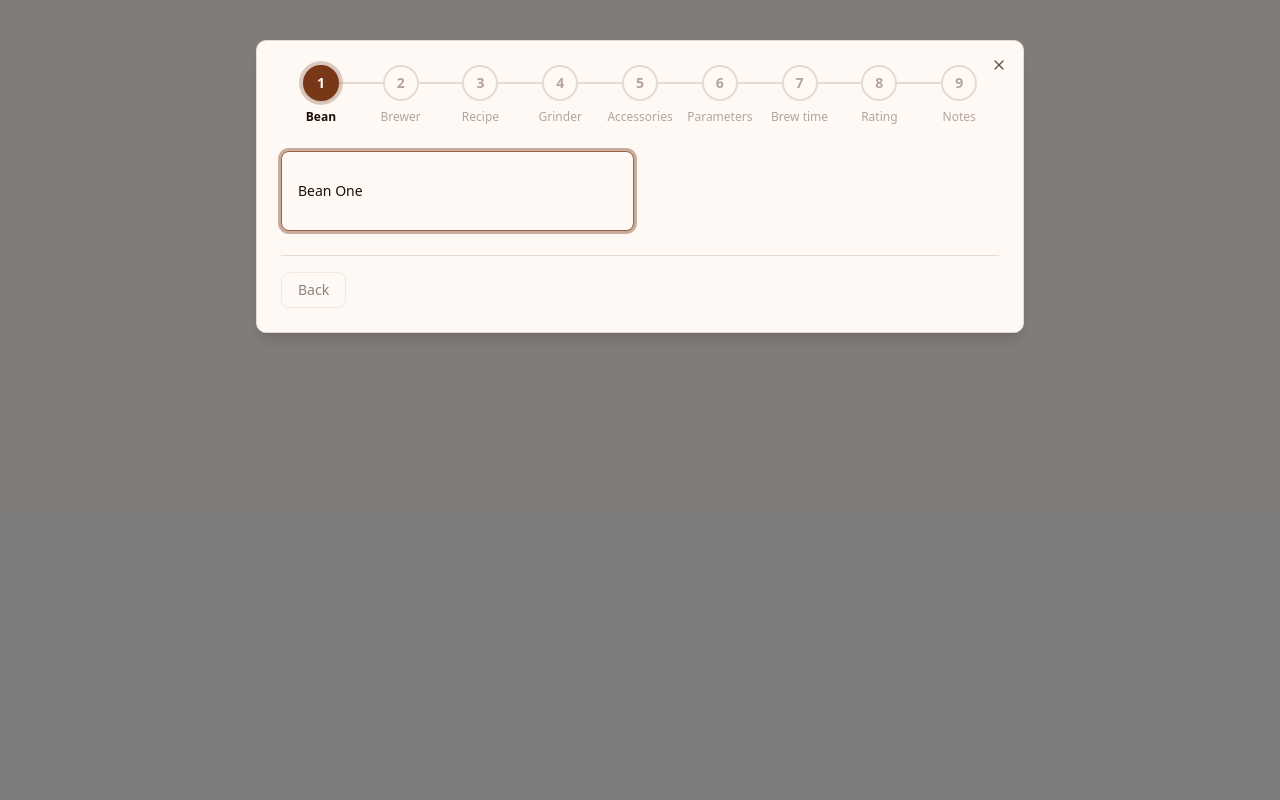
Test: QuickLogWizardDialog › keeps the user on the brew parameters step when required values are missing
The width and height of the screenshot is (1280, 800).
Step 1. Click the radio button labelled "Bean One" → (330, 190), box top-left (281, 151), bottom-right (634, 231)
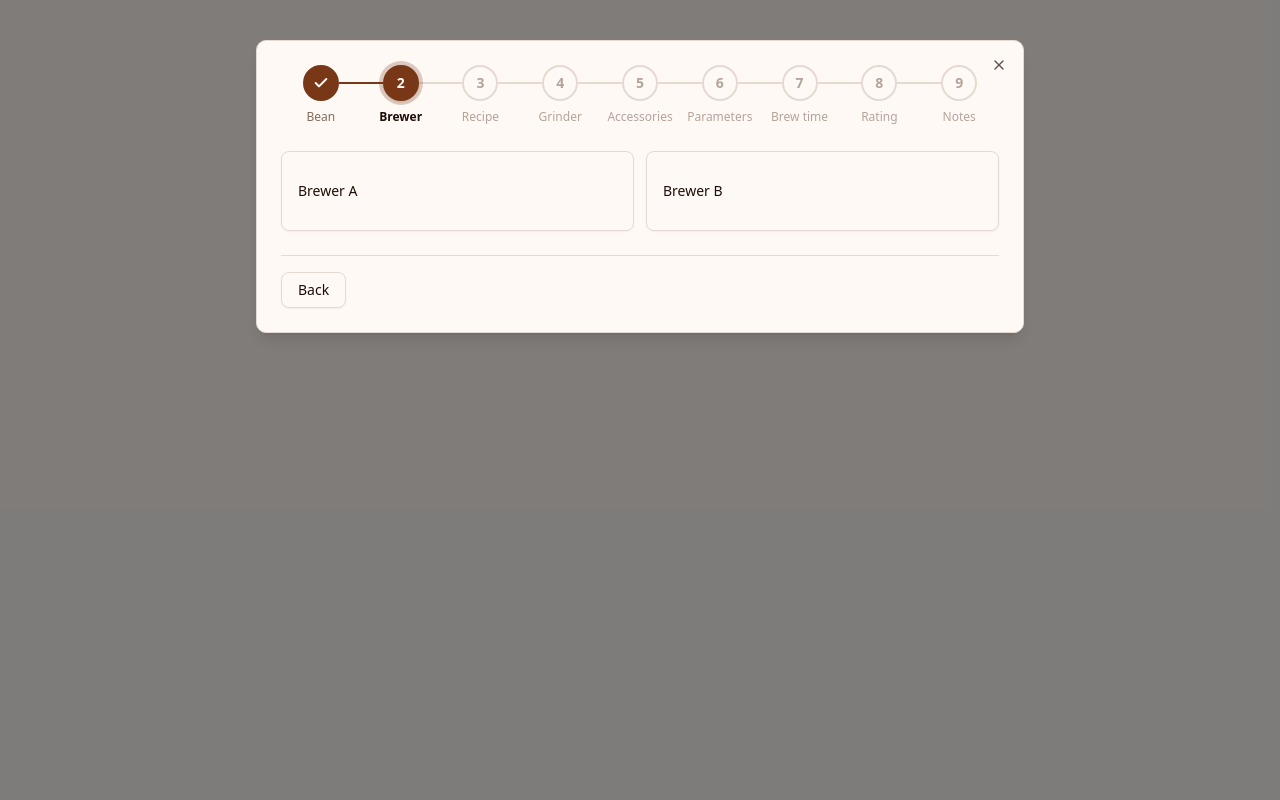
Step 2. Click the radio button labelled "Brewer A" → (328, 190), box top-left (281, 151), bottom-right (634, 231)
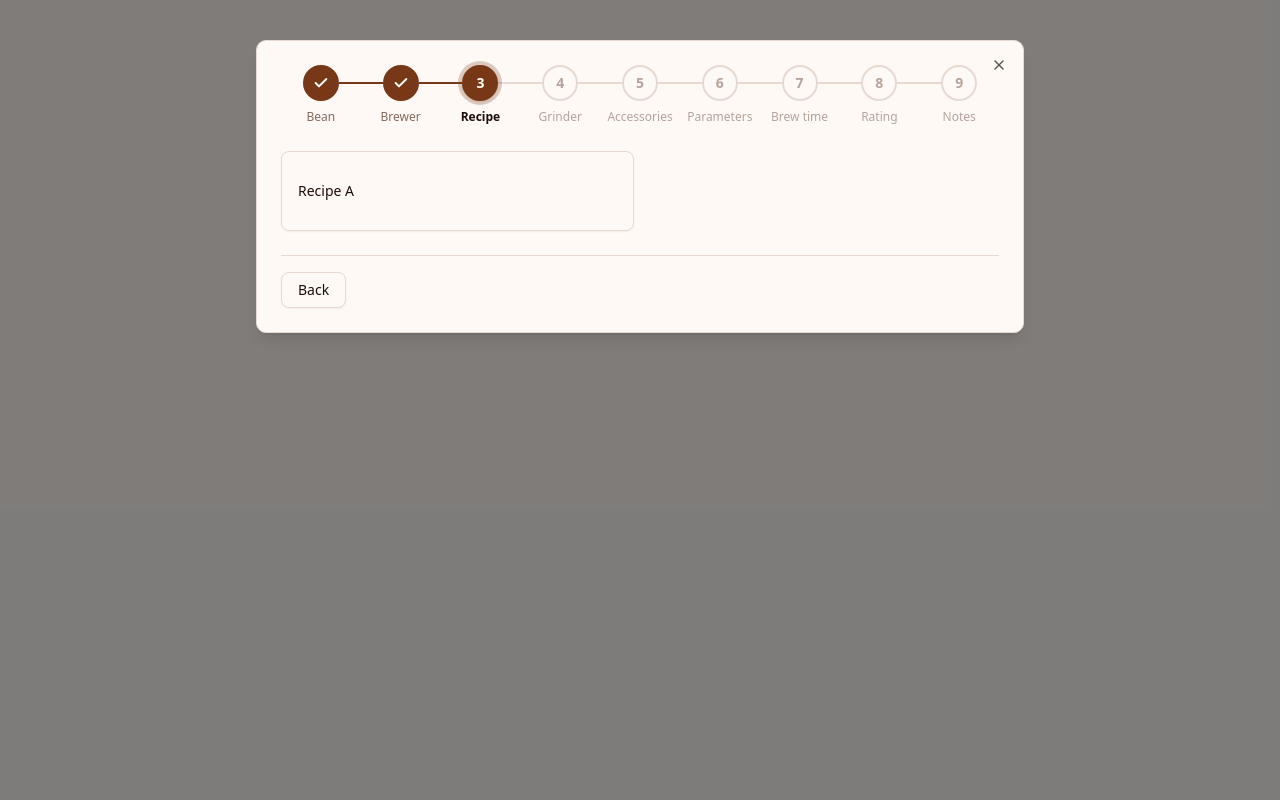
Step 3. Click the radio button labelled "Recipe A" → (326, 190), box top-left (281, 151), bottom-right (634, 231)
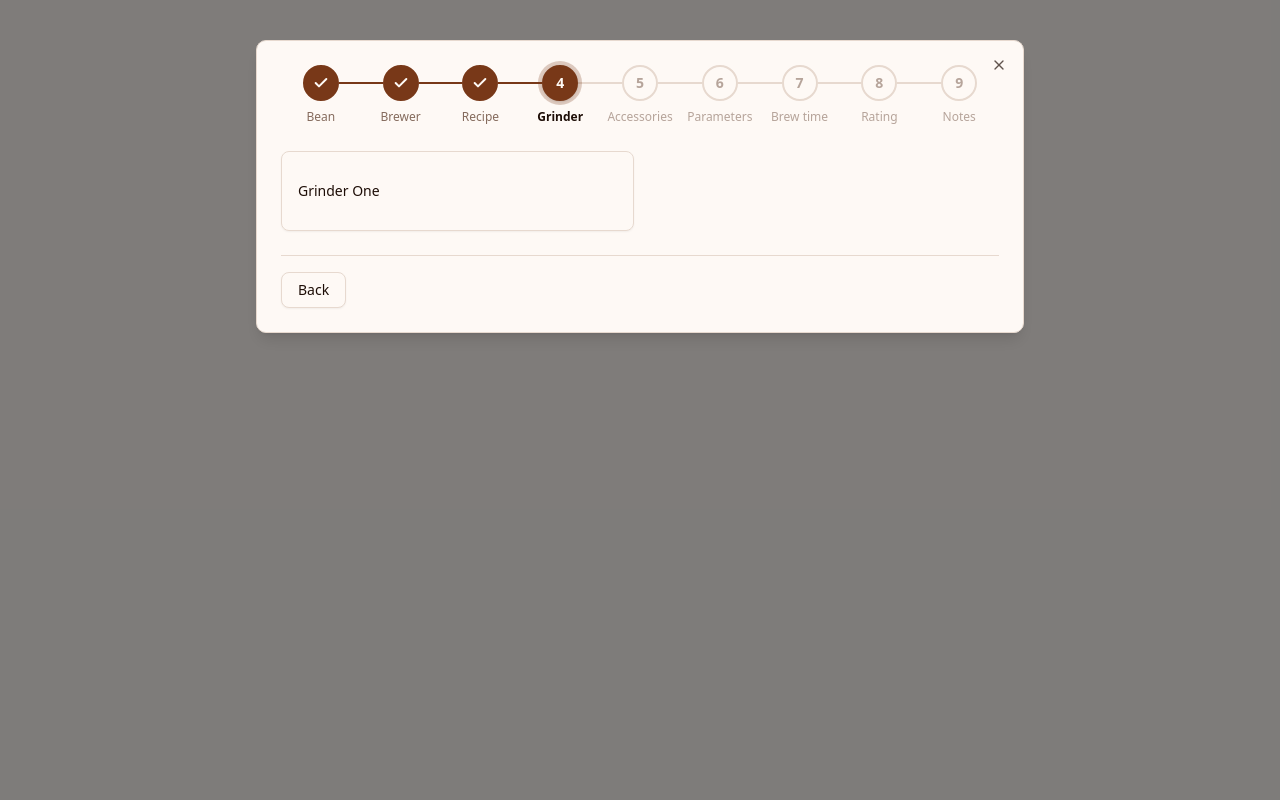
Step 4. Click the radio button labelled "Grinder One" → (339, 190), box top-left (281, 151), bottom-right (634, 231)
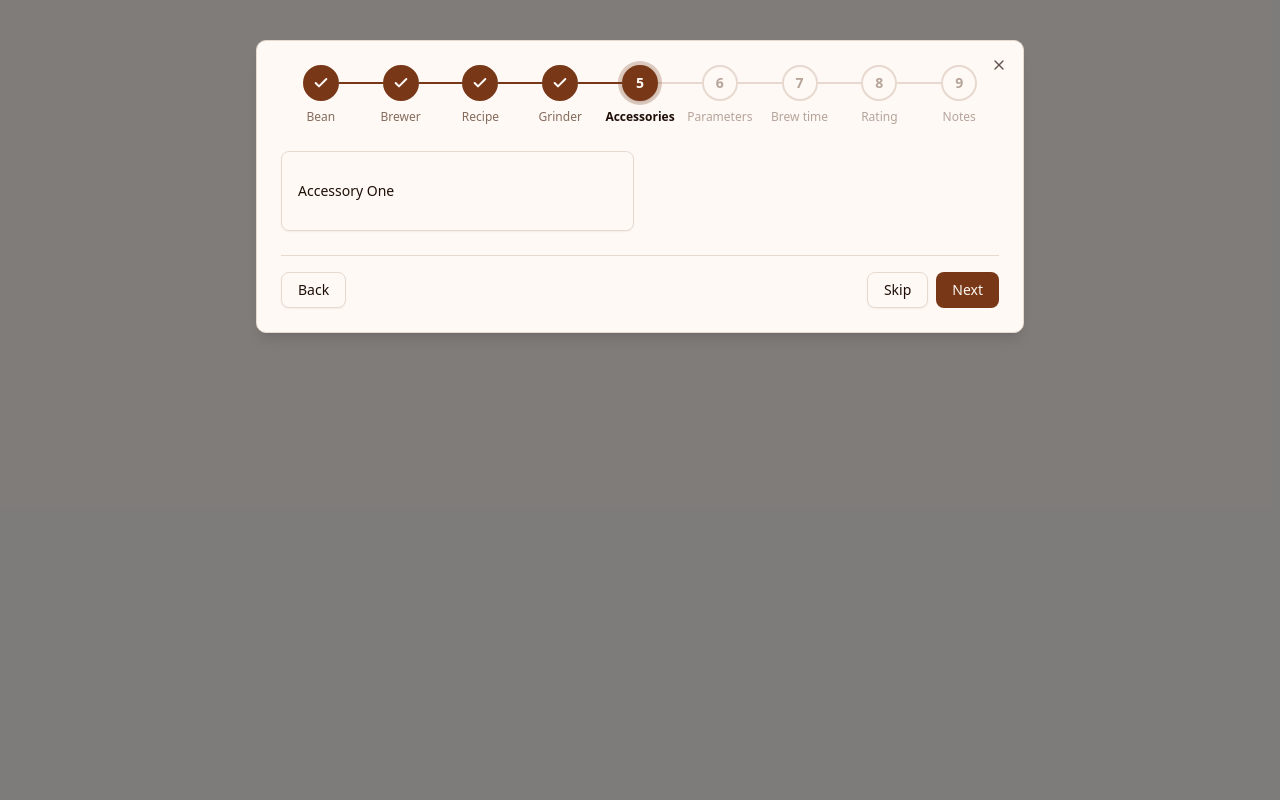
Step 5. Click the button "Skip" → (898, 290), box top-left (867, 272), bottom-right (928, 308)
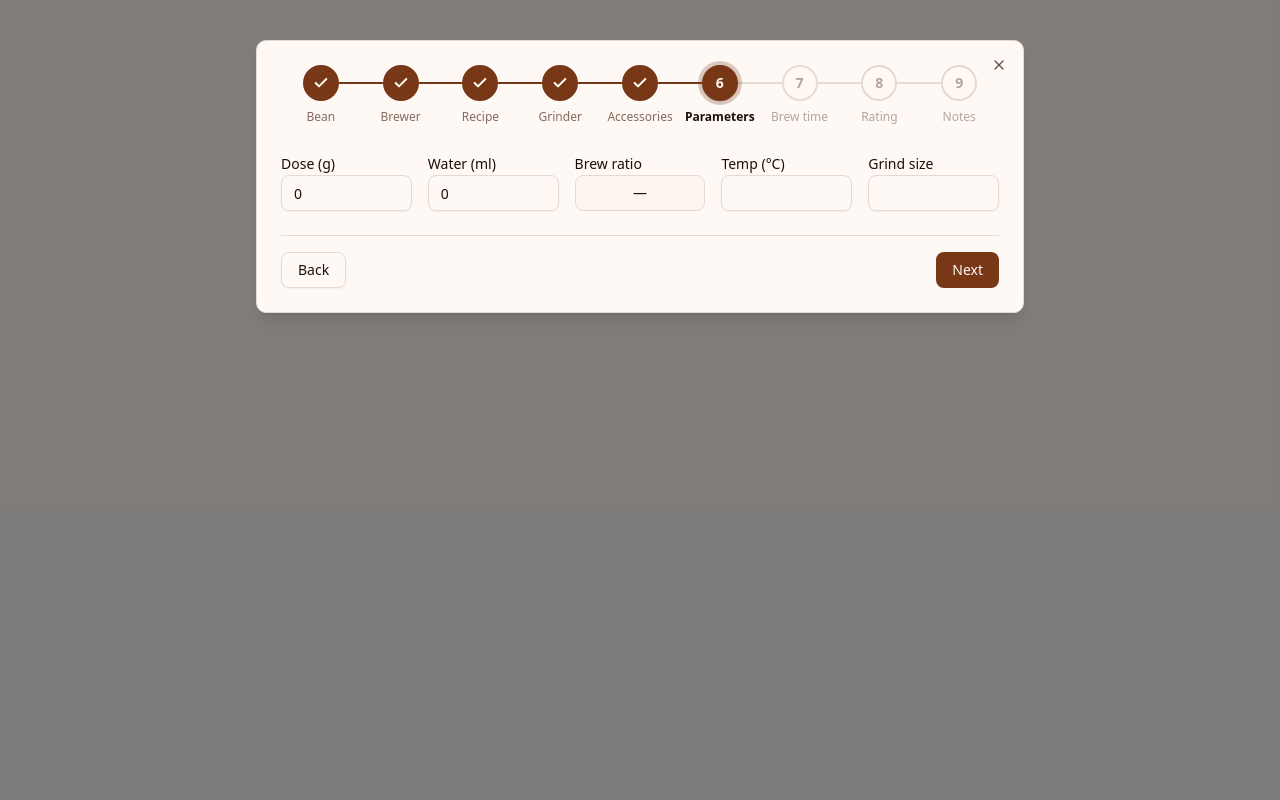
Step 6. Click the button "Next" → (968, 270), box top-left (936, 252), bottom-right (999, 288)
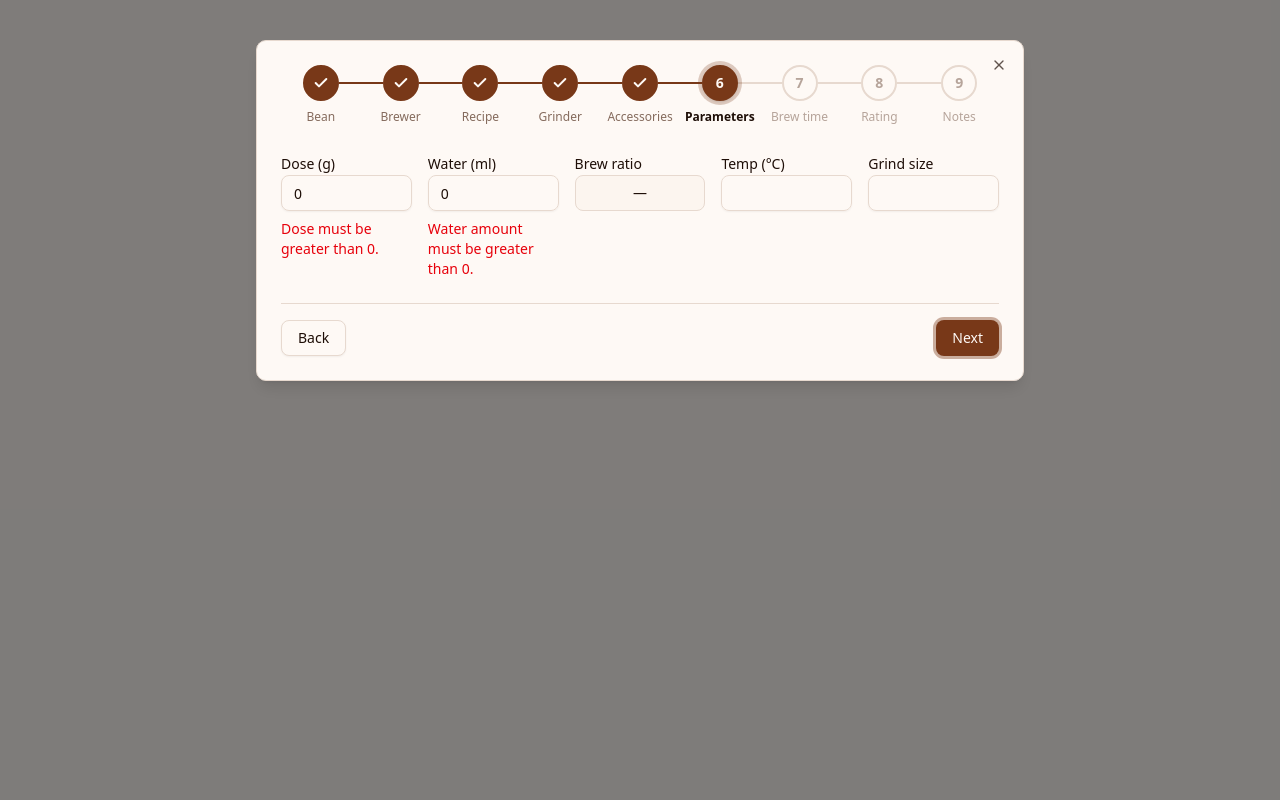
Now the text "Dose must be greater than 0." is shown, box top-left (281, 219), bottom-right (379, 258)
Now the text "Water amount must be greater than 0." is shown, box top-left (428, 219), bottom-right (534, 278)
